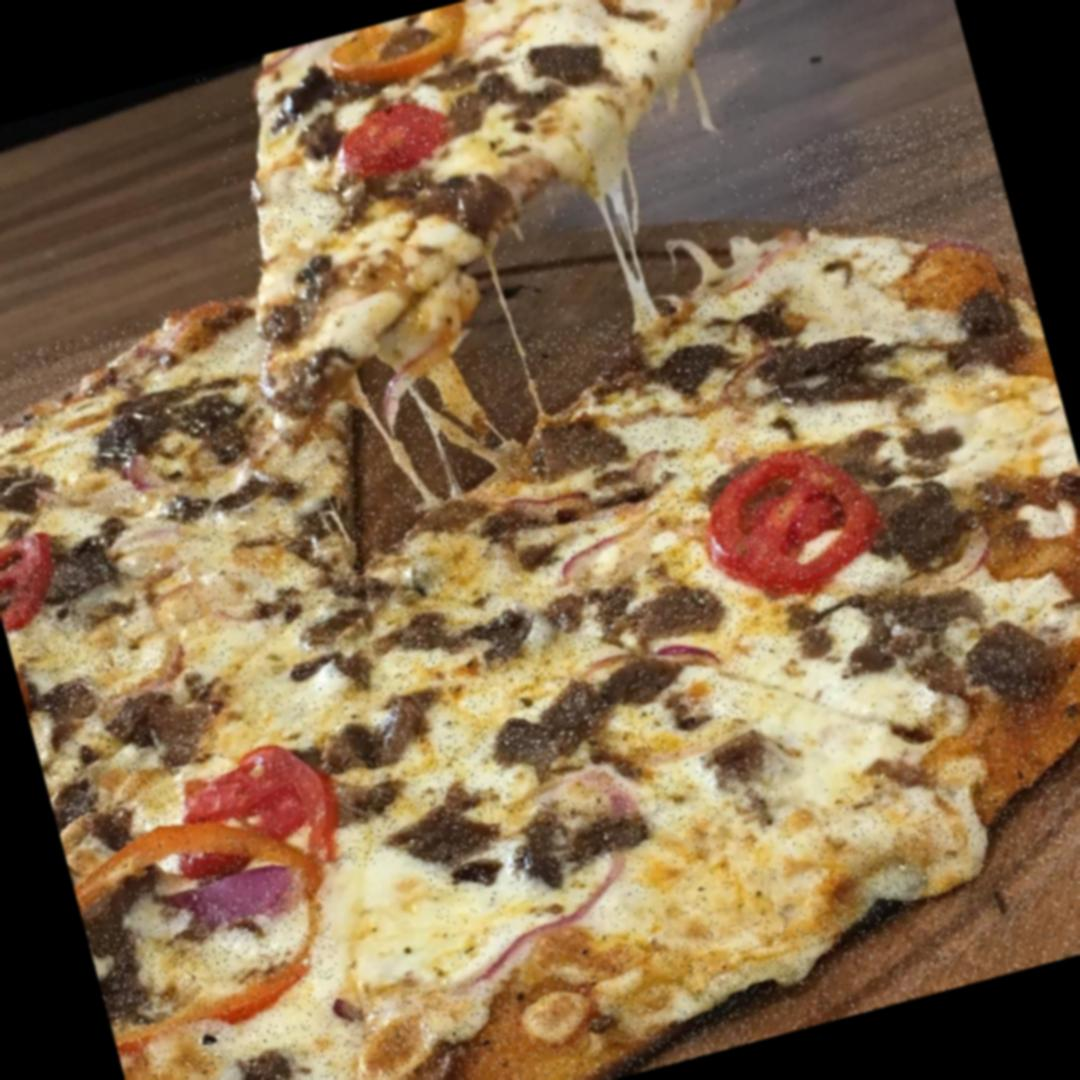Cheese: (623, 789, 867, 952), (110, 492, 274, 676), (746, 633, 920, 803), (319, 853, 454, 1007), (930, 366, 1078, 493), (201, 632, 343, 756), (772, 231, 900, 351), (508, 0, 647, 90), (252, 168, 342, 248)
Onion: (434, 850, 646, 988), (542, 506, 680, 588), (588, 620, 720, 704), (701, 312, 787, 413), (503, 479, 592, 528)
Peppers: (65, 786, 334, 940), (106, 949, 332, 1063), (321, 0, 481, 88)
Pizza: (0, 95, 1080, 1080), (183, 0, 811, 407)
Tomatoes: (693, 436, 888, 608), (162, 733, 348, 876), (334, 91, 452, 185), (0, 526, 77, 631)
